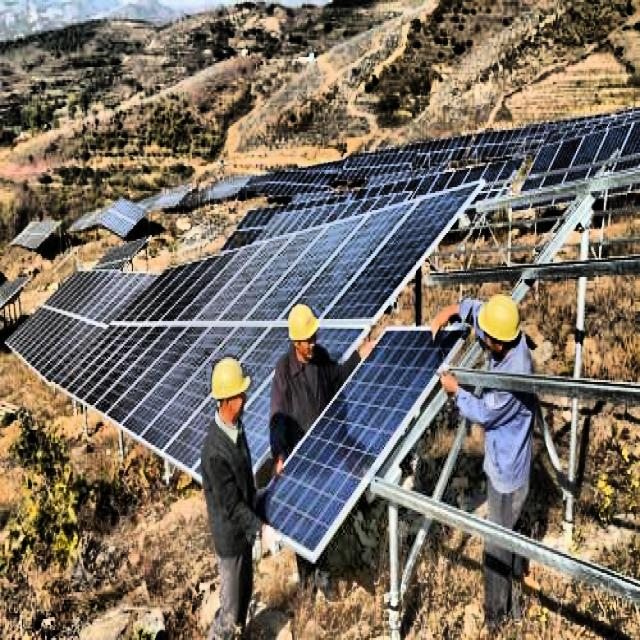helmet: (208, 353, 250, 430), (474, 290, 521, 356), (285, 300, 320, 363)
